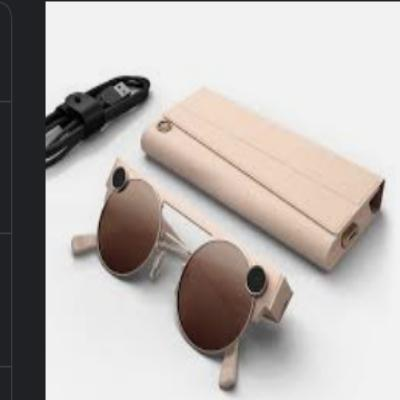glasses: (71, 155, 292, 394)
